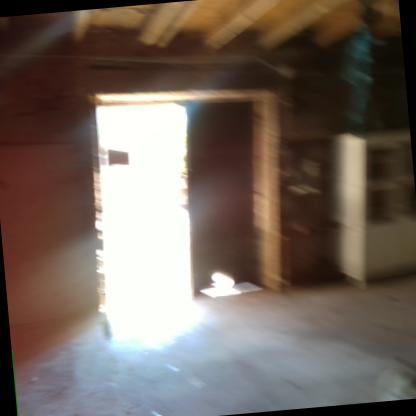semi: (74, 65, 294, 327)
